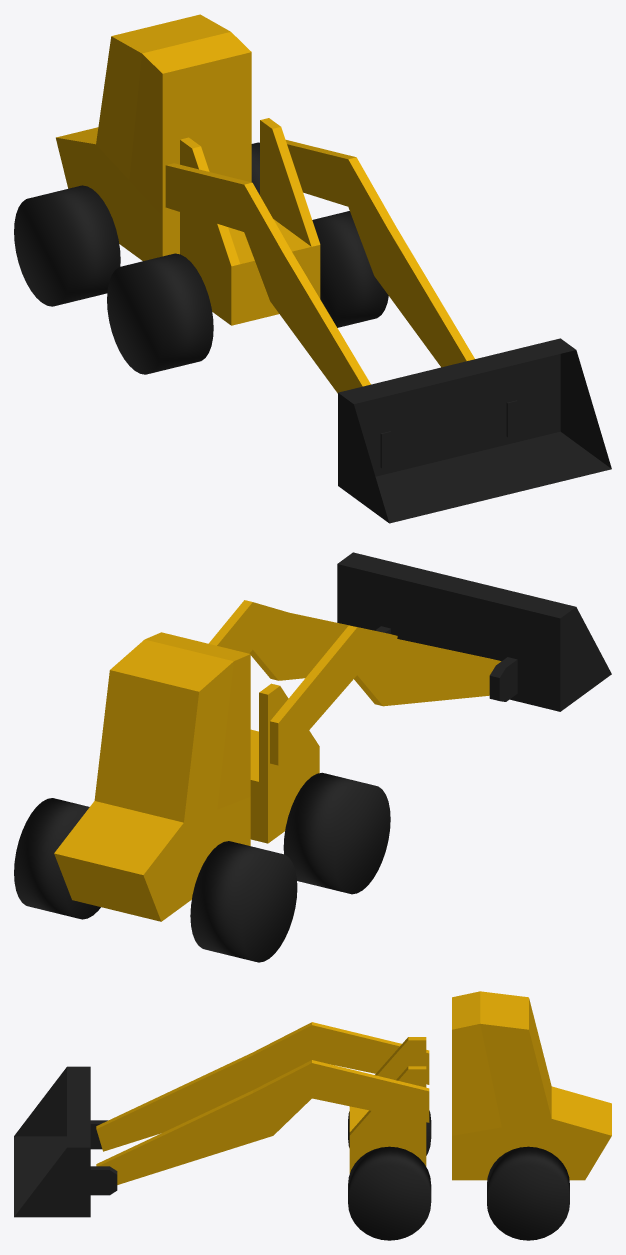
Rendered from test-machine.glb.
3 views of the same model, one above another, from view 1: azimuth 30°, elevation 25°; view 2: azimuth 150°, elevation 25°; view 3: azimuth 270°, elevation 25° (orthographic). The views are drawn at different scales.
Visible parts, largest first — view 1: Bucket, Cab, Arm Group, Front Pivot, FR Wheel, BR Wheel, FL Wheel; view 2: Cab, Bucket, Arm Group, BR Wheel, FR Wheel, Front Pivot, BL Wheel; view 3: Arm Group, Cab, Bucket, FL Wheel, BL Wheel, Front Pivot.
Part boxes in pixels (x1,y1,x2,y2): Bucket: (338, 338, 611, 523); Cab: (56, 14, 251, 260); Arm Group: (165, 140, 474, 393); Front Pivot: (180, 118, 320, 325); FR Wheel: (107, 253, 213, 374); BR Wheel: (14, 185, 120, 306); FL Wheel: (312, 211, 388, 327); Cab: (54, 632, 250, 921); Bucket: (337, 552, 611, 711); Arm Group: (208, 600, 501, 765); BR Wheel: (190, 841, 297, 962); FR Wheel: (283, 772, 390, 894); Front Pivot: (250, 683, 319, 843); BL Wheel: (14, 798, 100, 919); Arm Group: (96, 1022, 429, 1184); Cab: (452, 991, 611, 1180); Bucket: (14, 1066, 117, 1217); FL Wheel: (348, 1146, 431, 1240); BL Wheel: (487, 1146, 569, 1240); Front Pivot: (349, 1037, 426, 1173).
Bounding box in the file's own units: 5.09 × 5.5 × 15.57.
